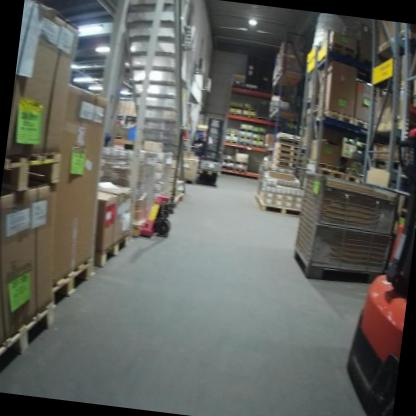pallet: (0, 294, 57, 392), (0, 145, 64, 205), (50, 254, 95, 312), (95, 226, 132, 270), (376, 27, 416, 64), (258, 200, 303, 219), (314, 109, 354, 128), (329, 41, 358, 58), (317, 167, 345, 181), (352, 118, 375, 134), (272, 144, 299, 154), (273, 138, 300, 147), (275, 155, 298, 165), (272, 162, 297, 171), (276, 152, 298, 157), (234, 159, 249, 166), (243, 106, 257, 113), (222, 157, 236, 164), (228, 104, 243, 110), (238, 127, 253, 133), (242, 113, 256, 119), (238, 134, 252, 140), (226, 131, 238, 138), (234, 166, 247, 172), (221, 165, 234, 171), (229, 111, 242, 116), (251, 137, 264, 142), (224, 139, 237, 144), (253, 130, 265, 135), (238, 141, 250, 146)
pallet_truck: (336, 119, 416, 416), (136, 120, 193, 244), (193, 115, 227, 190)
stillage: (283, 163, 402, 291)
